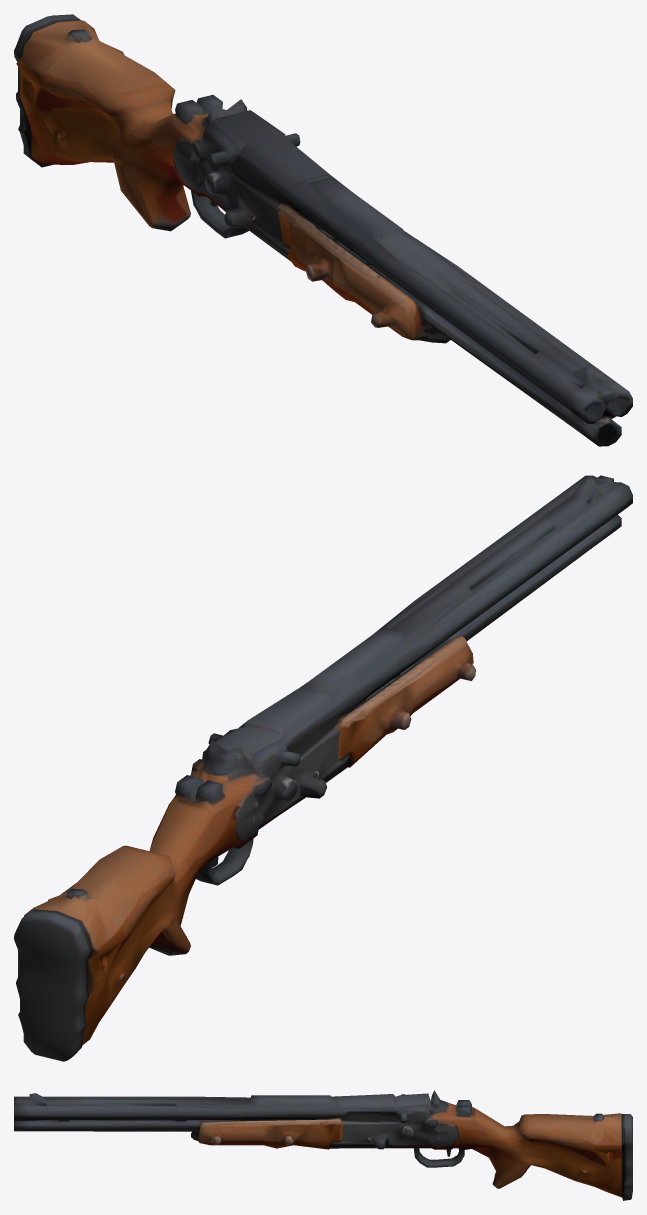
File: tripo-shotgun.glb
The picture shows the model from 3 angles, top to bottom: view 1: azimuth 30°, elevation 25°; view 2: azimuth 150°, elevation 25°; view 3: azimuth 270°, elevation 25°; orthographic projection. The views are drawn at different scales.
Parts seen in each view (by area): view 1: tripo_node_f3b63227-4f10-4682-9caf-7d1e65832261; view 2: tripo_node_f3b63227-4f10-4682-9caf-7d1e65832261; view 3: tripo_node_f3b63227-4f10-4682-9caf-7d1e65832261.
Boxes of the visible parts, box(x1,y1,x2,y2) form: tripo_node_f3b63227-4f10-4682-9caf-7d1e65832261: box(14, 14, 632, 446); tripo_node_f3b63227-4f10-4682-9caf-7d1e65832261: box(14, 475, 632, 1061); tripo_node_f3b63227-4f10-4682-9caf-7d1e65832261: box(14, 1090, 632, 1200).
Size of the model in its own units: 0.1076 by 0.184 by 1.
1 material, 1 textured.
